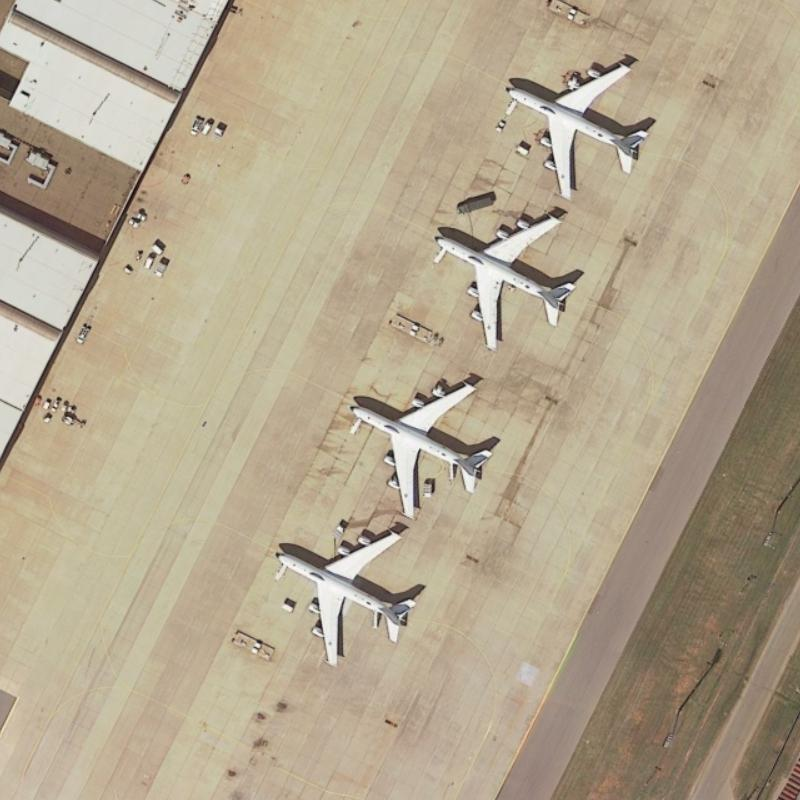A11: (338, 372, 512, 517), (496, 57, 664, 203), (261, 521, 427, 667), (428, 206, 586, 356)
